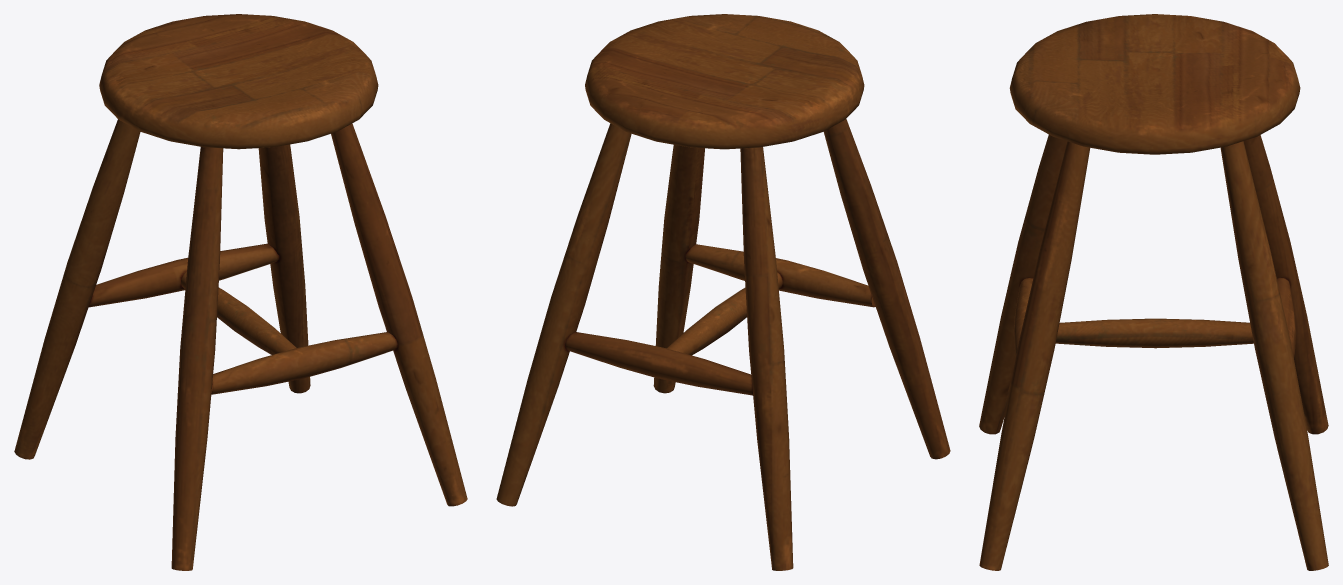
The model's file is kitchen_stool.glb.
3 views of the same model, side by side, from view 1: azimuth 30°, elevation 25°; view 2: azimuth 150°, elevation 25°; view 3: azimuth 270°, elevation 25° (orthographic). The views are drawn at different scales.
Parts seen in each view (by area): view 1: Stool_A_5; view 2: Stool_A_5; view 3: Stool_A_5.
Part boxes in pixels (x1=…): Stool_A_5: x1=14, y1=14, x2=467, y2=570; Stool_A_5: x1=496, y1=14, x2=950, y2=570; Stool_A_5: x1=979, y1=14, x2=1328, y2=570.
Size of the model in its own units: 0.4999 by 0.6756 by 0.4956.
1 material, 1 textured.
